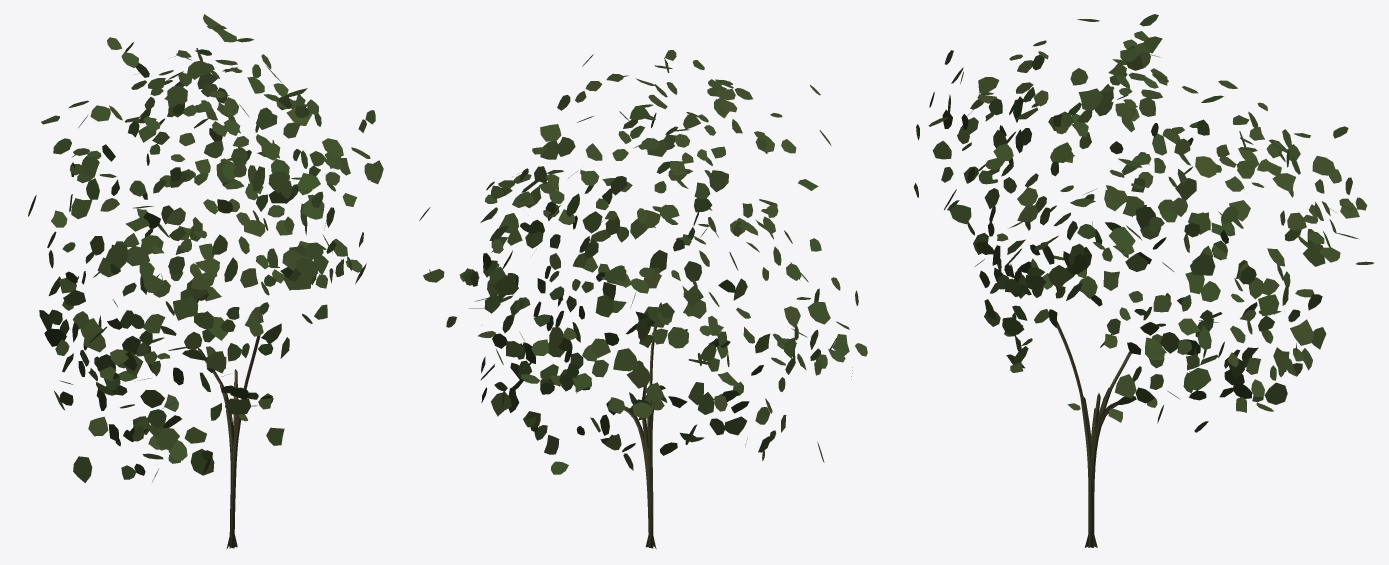
The model's file is SM_TreeFar_hazel_2.glb.
3 views of the same model, side by side, from view 1: azimuth 30°, elevation 25°; view 2: azimuth 150°, elevation 25°; view 3: azimuth 270°, elevation 25° (orthographic). The views are drawn at different scales.
Parts seen in each view (by area): view 1: SM_TreeFar_hazel_2; view 2: SM_TreeFar_hazel_2; view 3: SM_TreeFar_hazel_2.
Boxes of the visible parts, box(x1,y1,x2,y2) form: SM_TreeFar_hazel_2: box(28, 14, 383, 548); SM_TreeFar_hazel_2: box(419, 50, 867, 549); SM_TreeFar_hazel_2: box(914, 14, 1373, 547).
Size of the model in its own units: 4.64 by 6.53 by 5.51.
